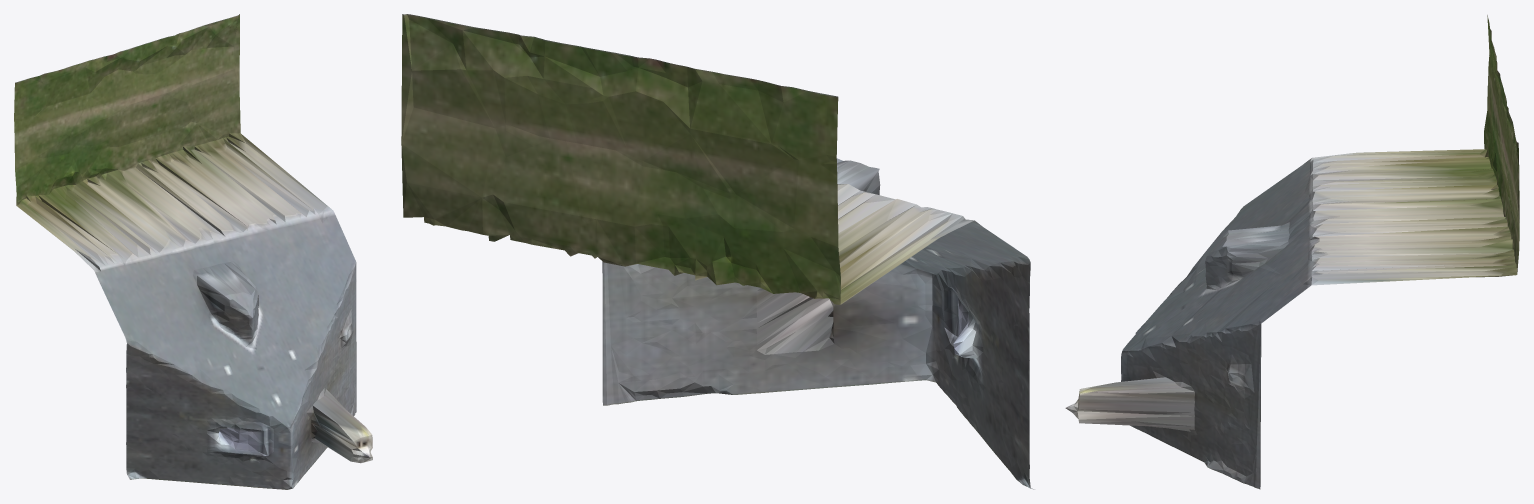
Rendered from map_90_100.obj.
3 views of the same model, side by side, from view 1: azimuth 30°, elevation 25°; view 2: azimuth 150°, elevation 25°; view 3: azimuth 270°, elevation 25° (orthographic). The views are drawn at different scales.
Parts seen in each view (by area): view 1: grp1; view 2: grp1; view 3: grp1.
Boxes of the visible parts, x1,y1,x2,y2 form: grp1: (14,14,372,489); grp1: (401,14,1034,489); grp1: (1065,15,1519,489).
Size of the model in its own units: 8 by 10 by 11.88.
1 material, 1 textured.
